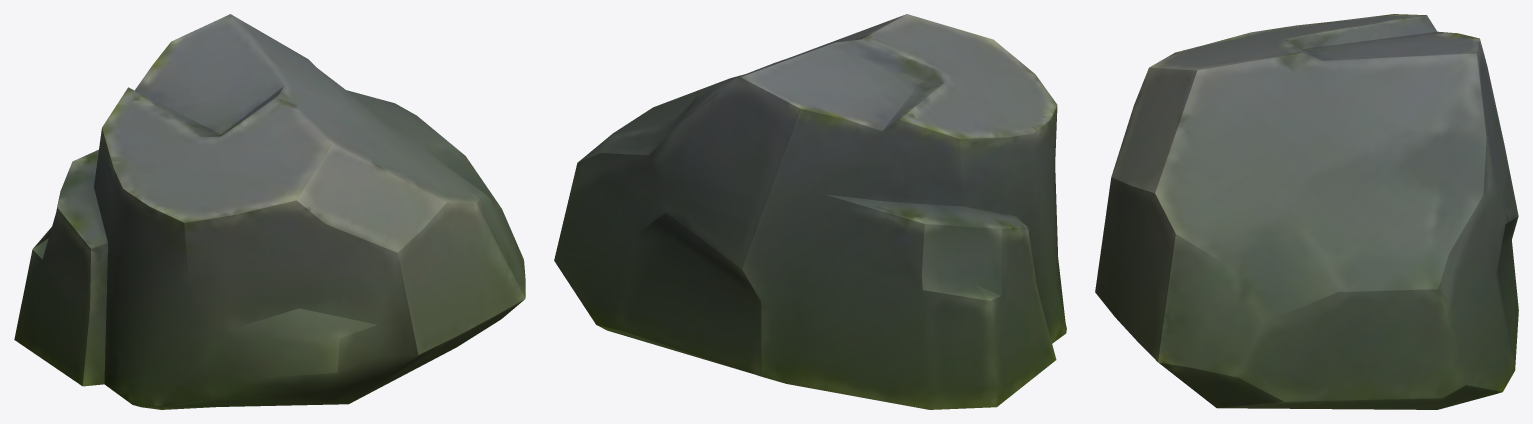
Rendered from rock-medium-transformed.glb.
3 views of the same model, side by side, from view 1: azimuth 30°, elevation 25°; view 2: azimuth 150°, elevation 25°; view 3: azimuth 270°, elevation 25° (orthographic). The views are drawn at different scales.
Visible parts, largest first — view 1: Rock_Medium_2; view 2: Rock_Medium_2; view 3: Rock_Medium_2.
Boxes of the visible parts, box(x1,y1,x2,y2) form: Rock_Medium_2: box(14, 14, 525, 409); Rock_Medium_2: box(554, 14, 1066, 409); Rock_Medium_2: box(1095, 14, 1518, 409).
Bounding box in the file's own units: 3.05 × 1.9 × 2.48.
1 material, 1 textured.
